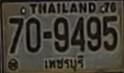0: (25, 17, 40, 52)
4: (70, 16, 84, 51)
5: (102, 15, 116, 50)
7: (8, 17, 22, 52)
9: (53, 16, 68, 50), (86, 16, 100, 50)
PBI: (40, 54, 87, 72)
